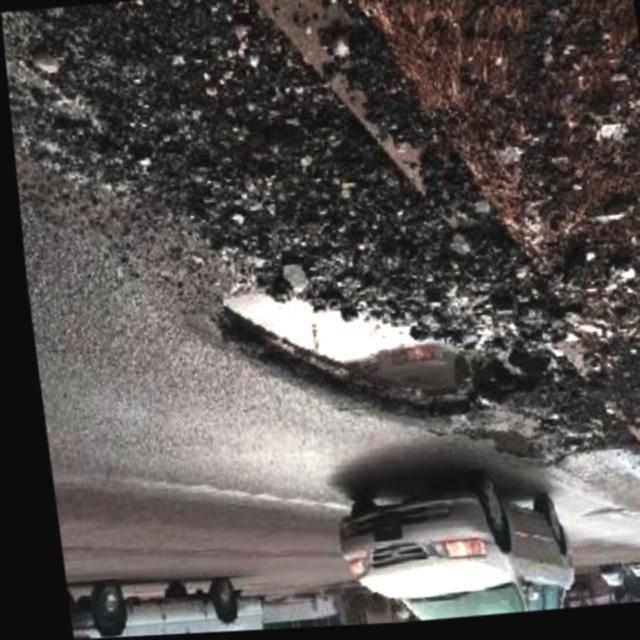pothole: (207, 262, 551, 444)
